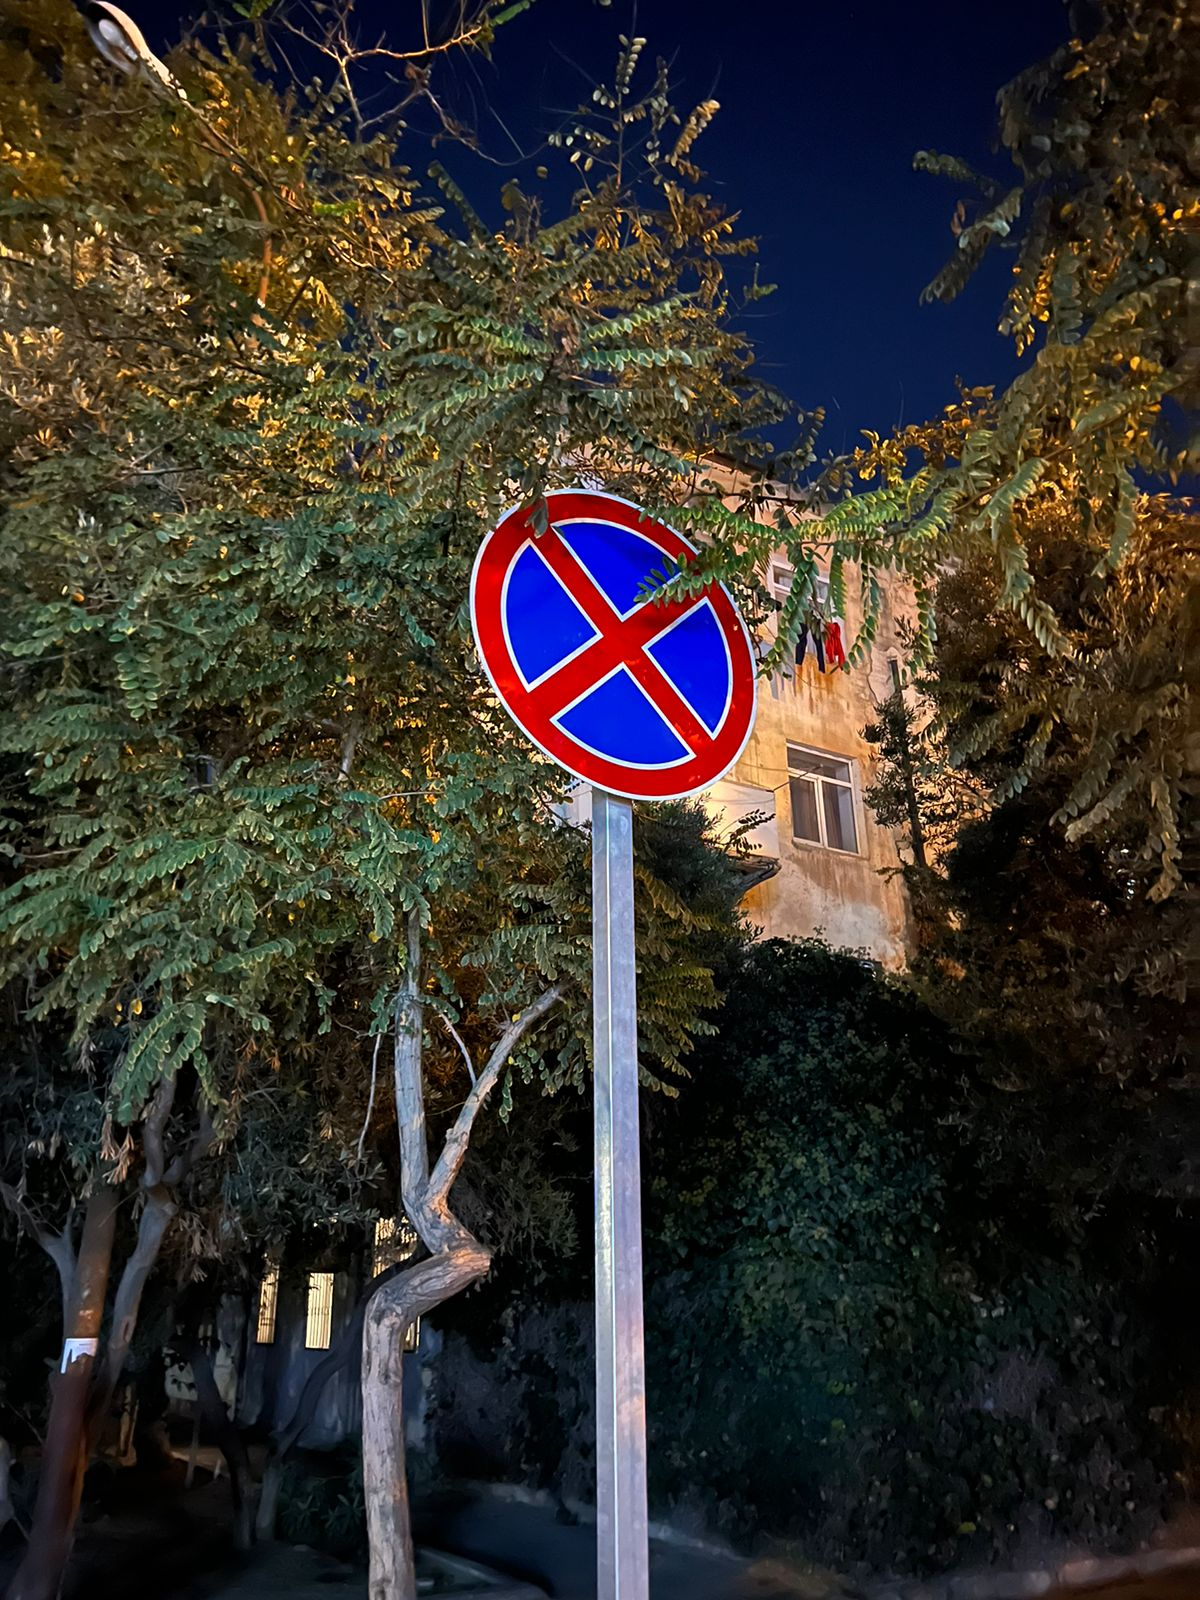No Parking: (468, 488, 758, 799)
